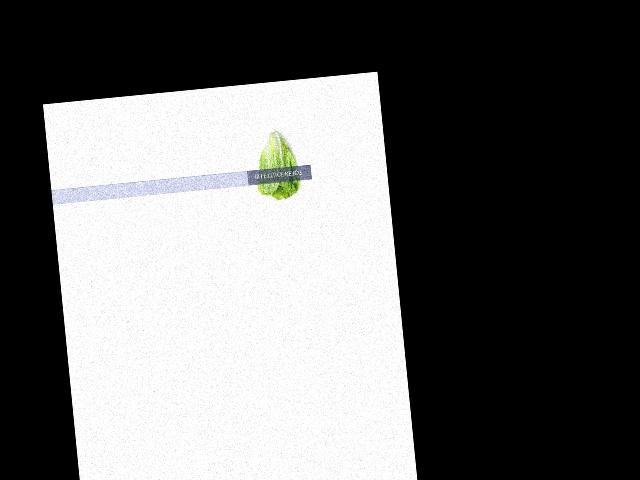lettuce: (250, 122, 305, 202)
